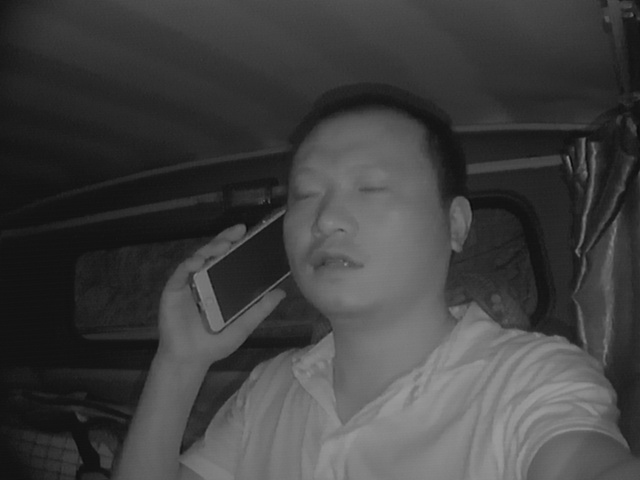hand: (153, 224, 274, 358)
